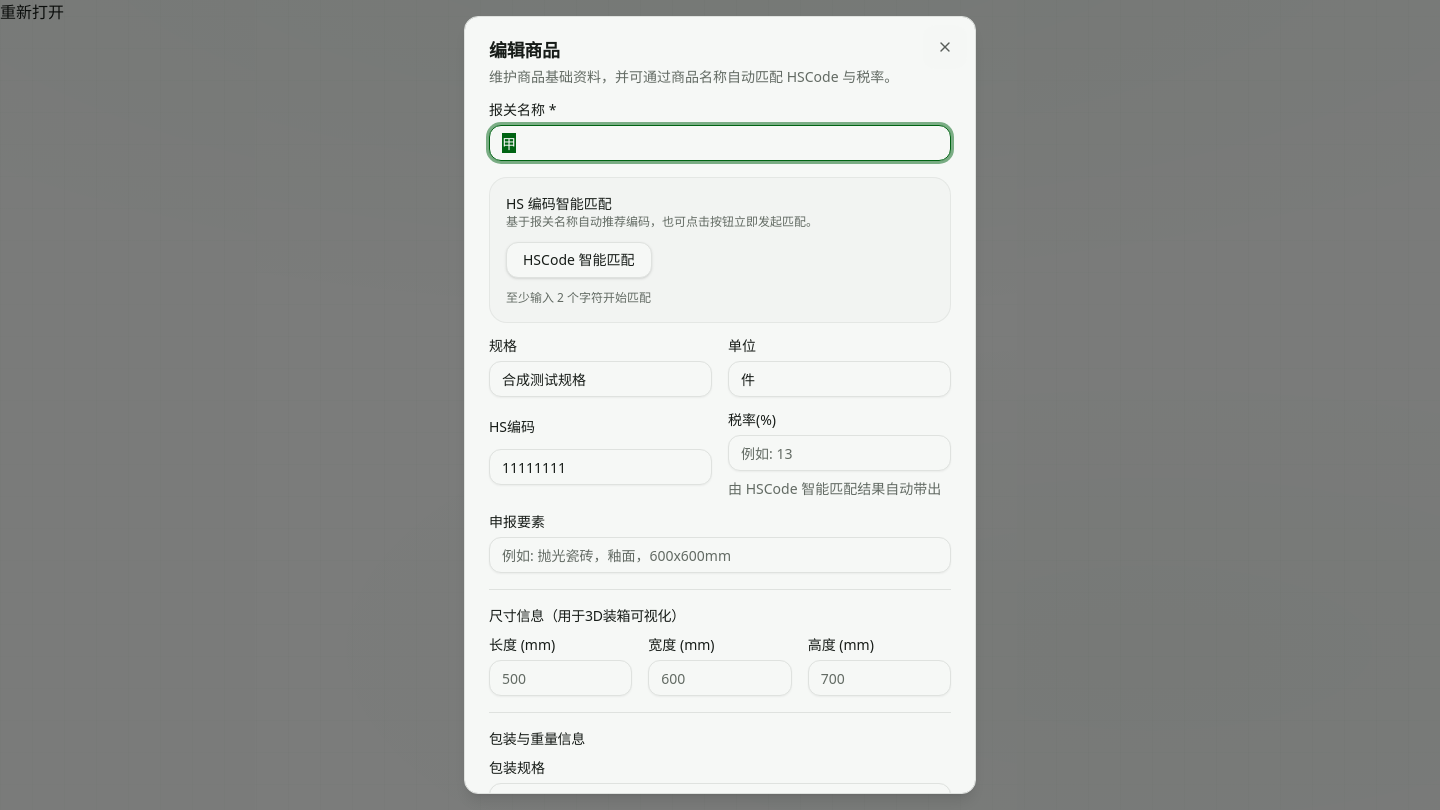
Test: ProductDialog 编辑会话 › 输入新名称后，旧手动匹配的迟到 resolve 不能覆盖新的自动建议
Replace the text in the field labelled "报关名称 *" with "合成瓷砖" at [720, 143], box left=489, top=125, right=951, bottom=161
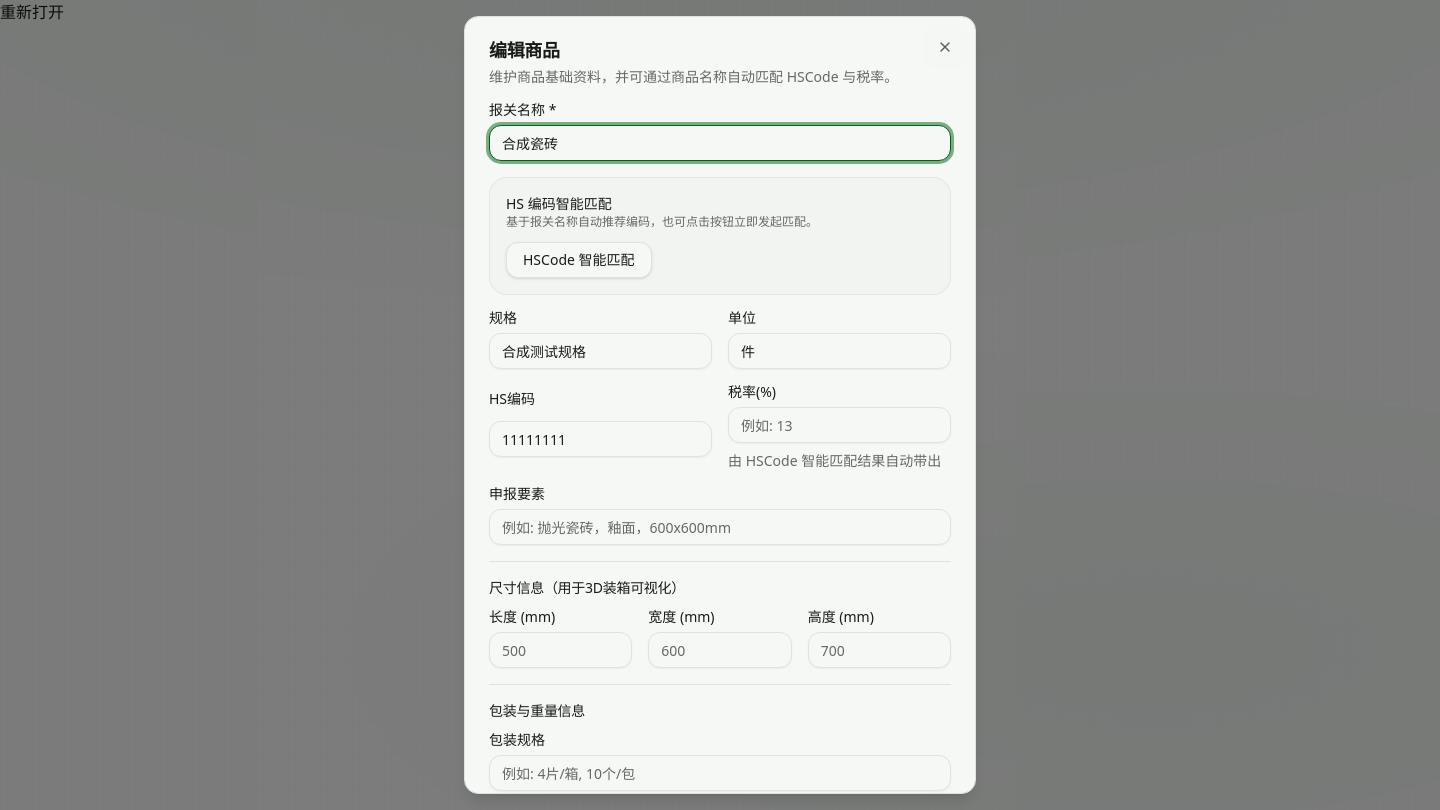
Click the button "HSCode 智能匹配" at [579, 260], box left=506, top=242, right=652, bottom=278
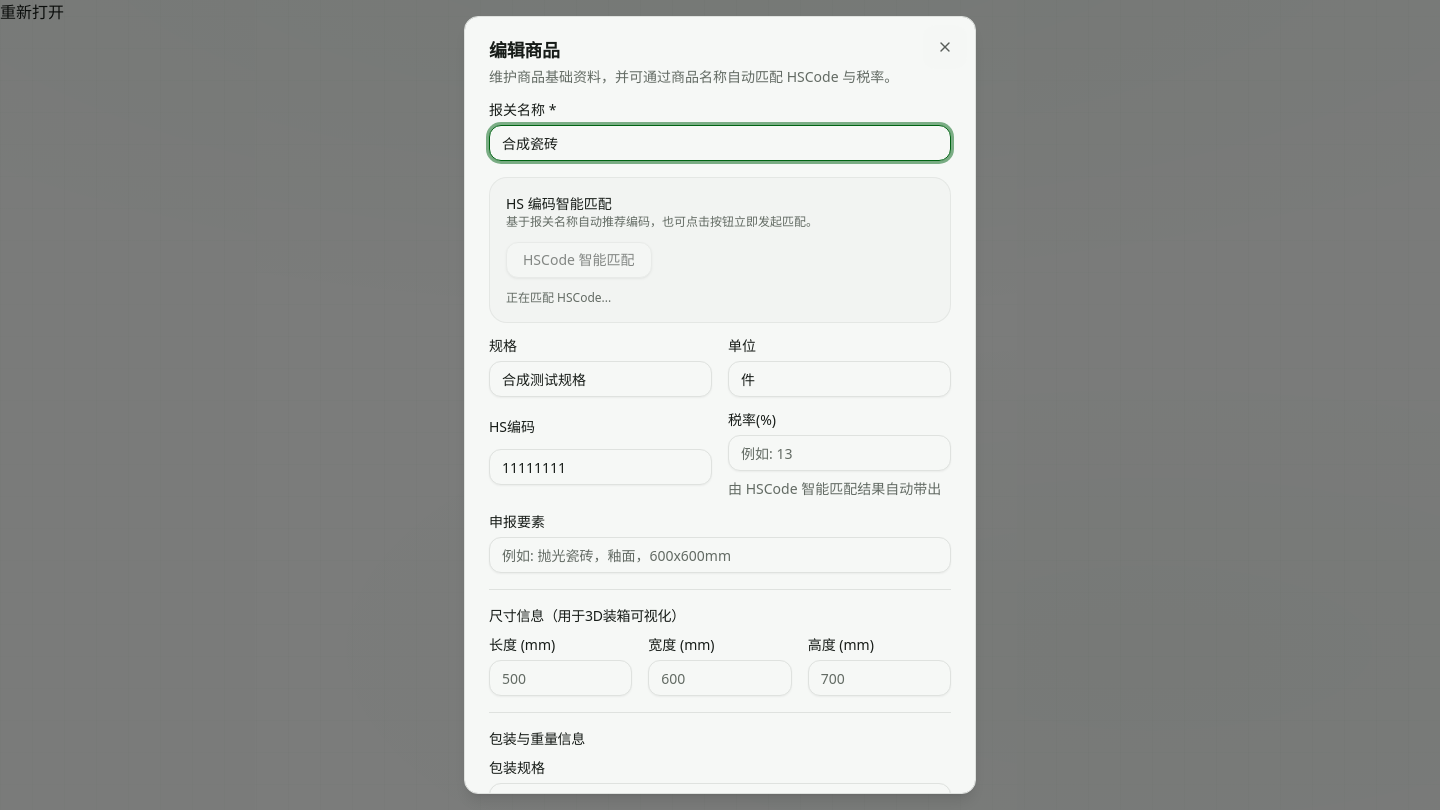
Replace the text in the field labelled "报关名称 *" with "合成玻璃" at [720, 143], box left=489, top=125, right=951, bottom=161
Wait 350 ms
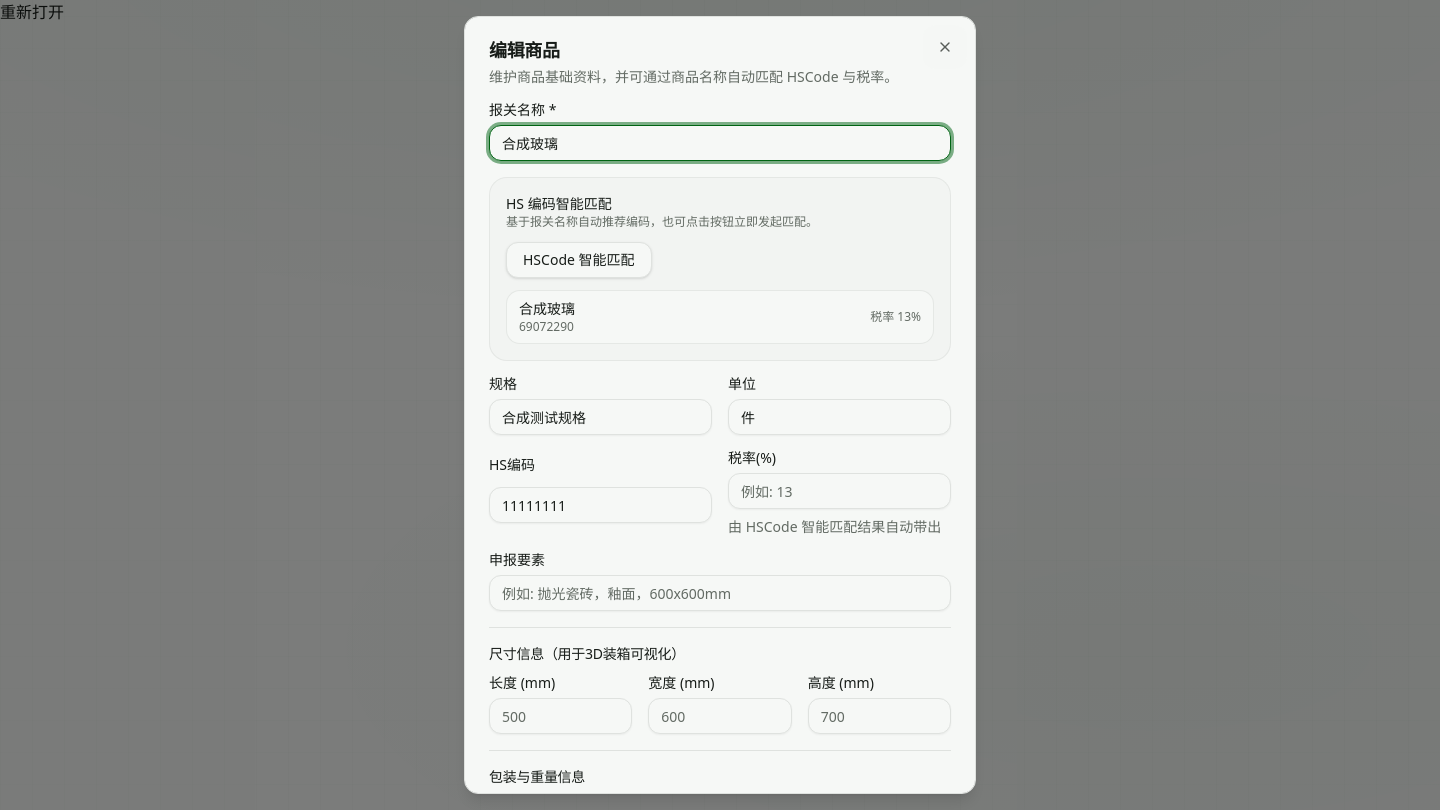
Result: the button "合成玻璃 69072290 税率 13%" is shown at left=506, top=290, right=934, bottom=344
